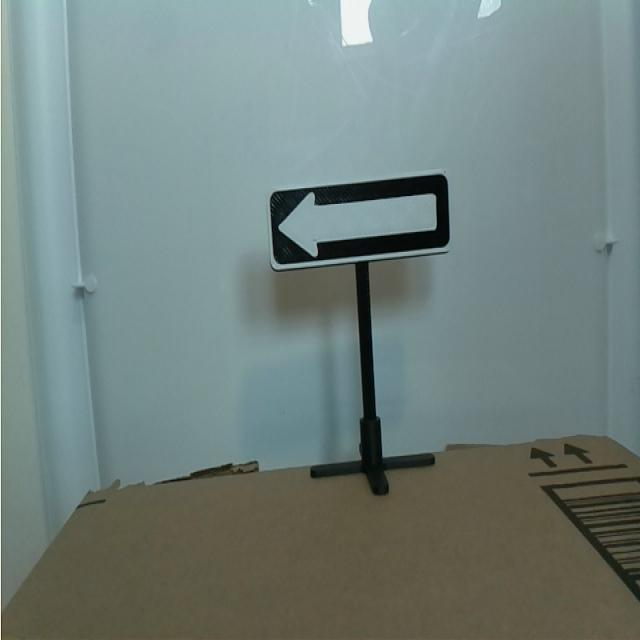sign_oneway_left: (261, 159, 462, 290)
